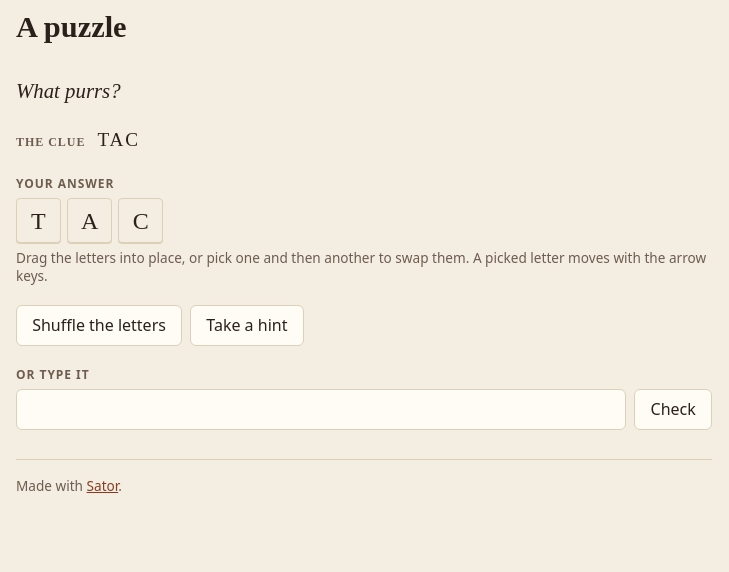
the players’ page › gives the hints the game master allows, one at a time
Click the button "Take a hint": (247, 326) [190,305,304,346]
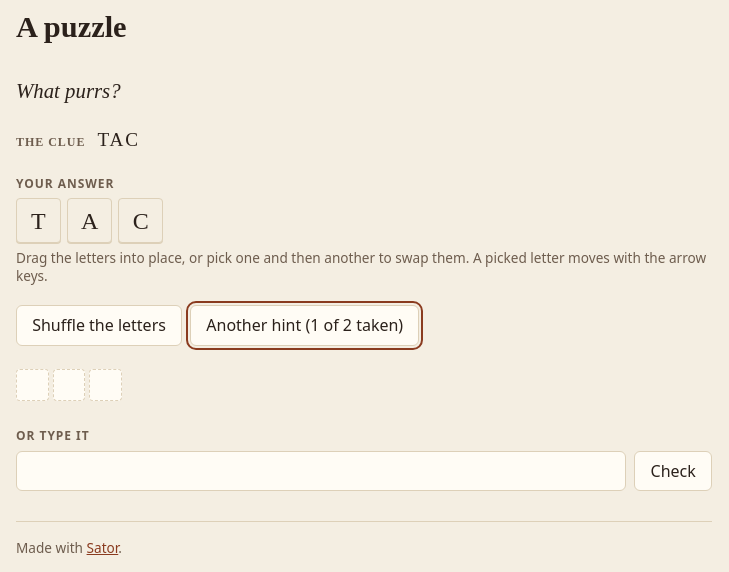
Expected: the number of elements named "a letter to find" is 3, [16,369,49,401]; [53,369,85,401]; [89,369,122,401]
Click the button "Another hint (1 of 2 taken)": (305, 326) [190,305,419,346]
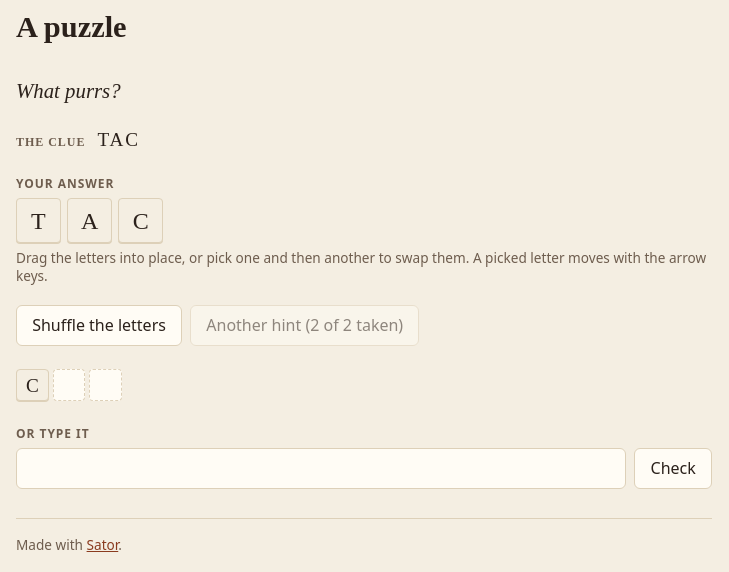
Expected: the element named "Hint 2 of 2" reads "C", [26,374,39,396]
Expected: the button "Another hint (2 of 2 taken)" is disabled, [190,305,419,346]
